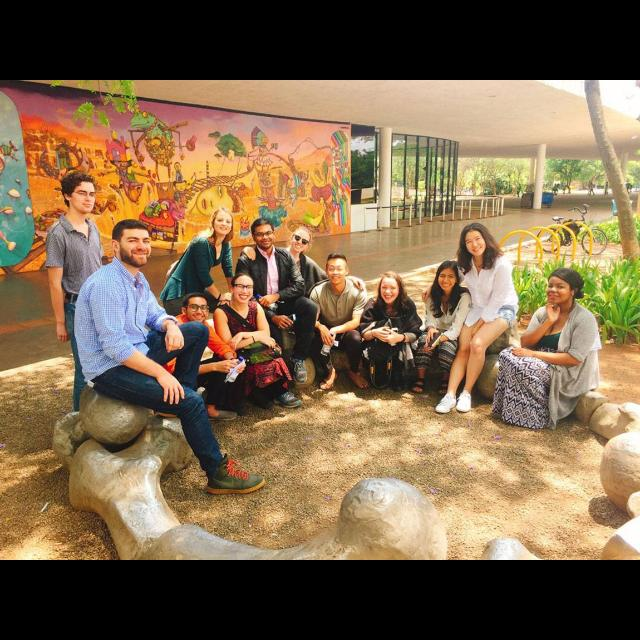head: (111, 220, 152, 268), (546, 268, 584, 306), (64, 176, 96, 214), (182, 292, 210, 324), (324, 253, 350, 285), (251, 218, 277, 250), (465, 226, 489, 258), (230, 272, 254, 304), (380, 271, 402, 305), (438, 260, 460, 292), (210, 207, 234, 235), (291, 226, 313, 254), (627, 180, 629, 183), (591, 183, 593, 185), (589, 182, 591, 184), (564, 183, 566, 185)
person: (73, 218, 270, 497), (420, 221, 522, 417), (490, 265, 604, 433), (232, 216, 322, 410), (44, 168, 110, 428), (238, 223, 368, 354), (140, 290, 250, 424), (157, 205, 237, 385), (211, 270, 295, 420), (306, 251, 372, 393), (410, 258, 474, 398), (357, 269, 425, 395), (588, 183, 596, 197), (586, 181, 592, 197), (625, 180, 631, 194), (562, 182, 568, 195)
